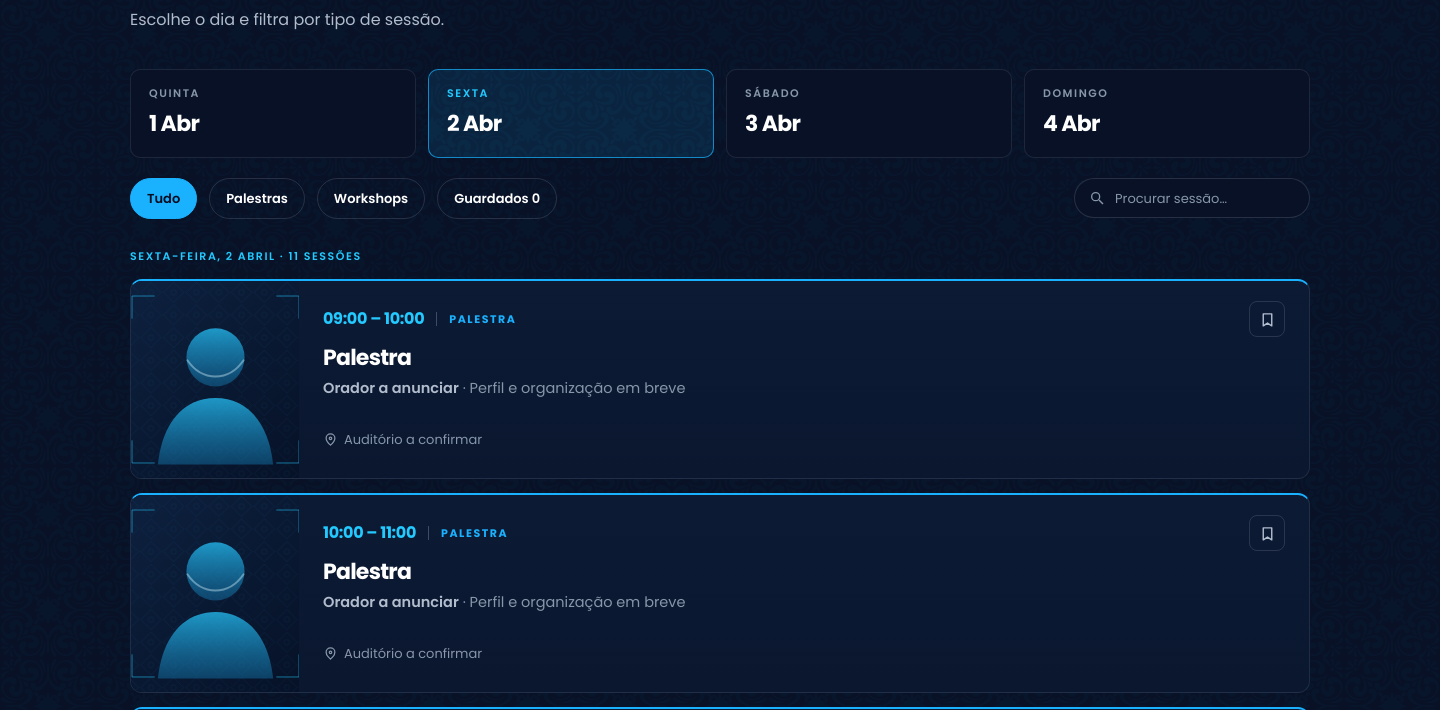
Agenda: sessões guardadas › guardar marca o botão, conta nos «Guardados», grava no dispositivo e avisa; remover desfaz tudo
(page scrolled)
Click the button with class "ag-save" in the row of "09:00" at (1267, 319), box [1249,301,1285,337]
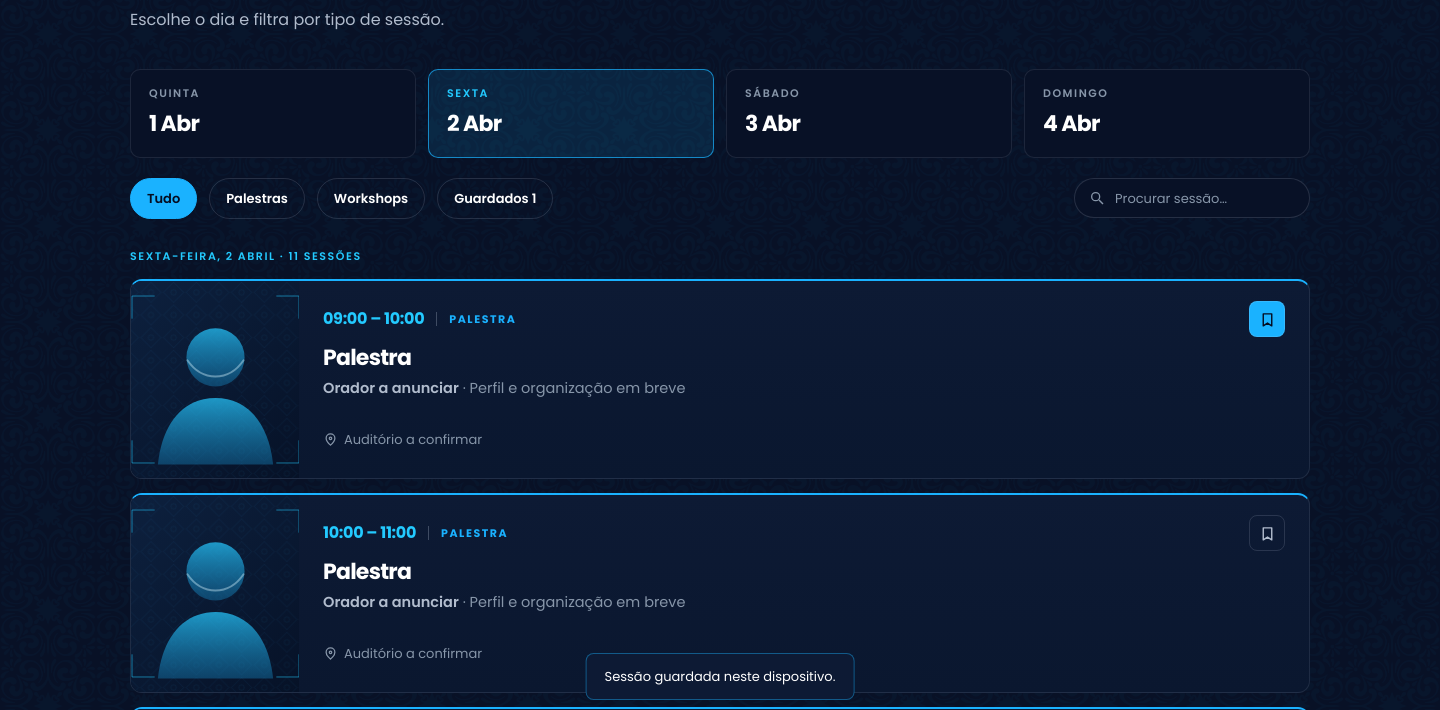
Now the message reads "Sessão guardada neste dispositivo.", box [605,667,835,686]
Click the 1st button with class "ag-save" at (1267, 319), box [1249,301,1285,337]
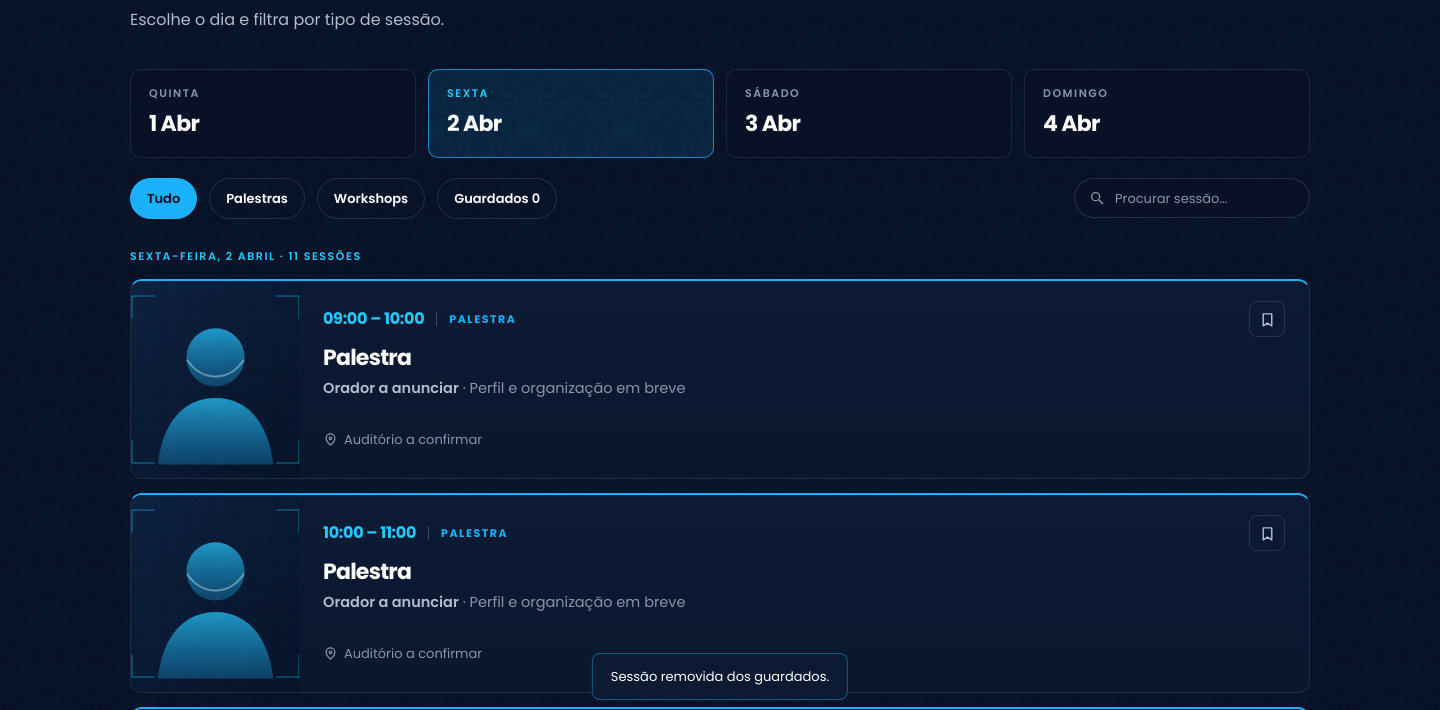
Now the message reads "Sessão removida dos guardados.", box [611,667,829,686]
